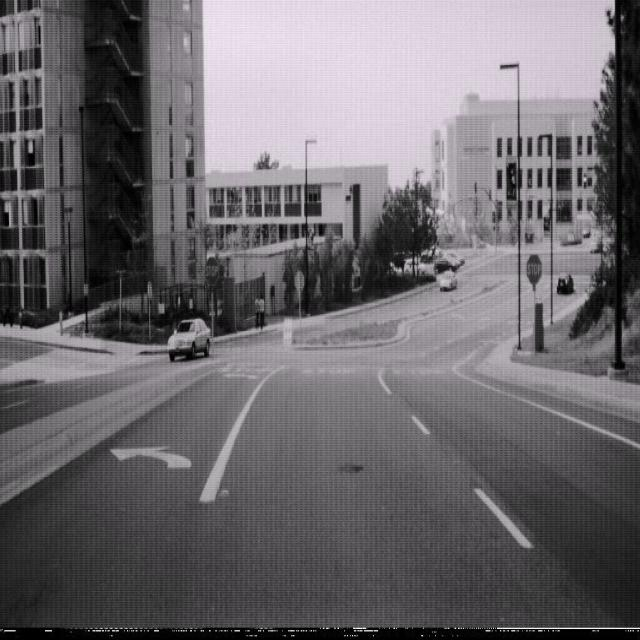stop_sign: (526, 251, 542, 286), (204, 254, 219, 287)
